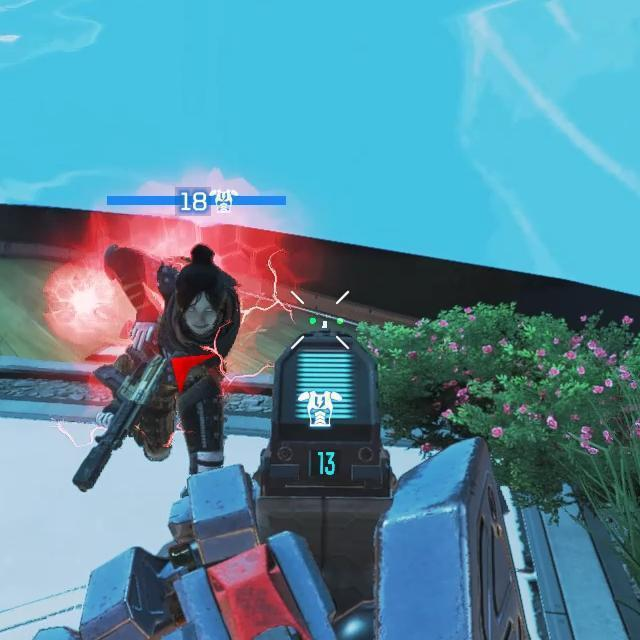avatar: (101, 242, 242, 467)
object: (44, 254, 127, 347)
